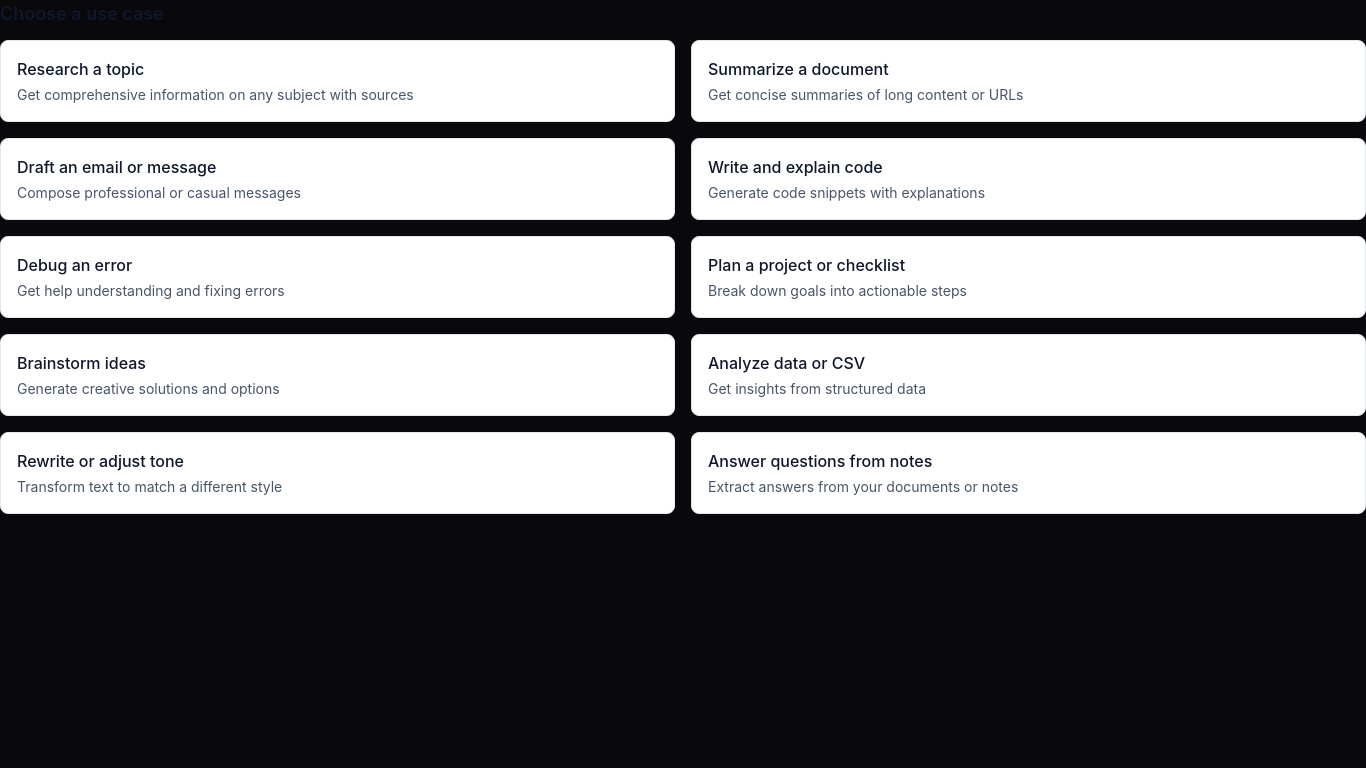
Test: UseCaseBuilder › shows Copied confirmation after copying
Click the radio button "Research a topic" at (338,81), box top-left (0, 40), bottom-right (675, 122)
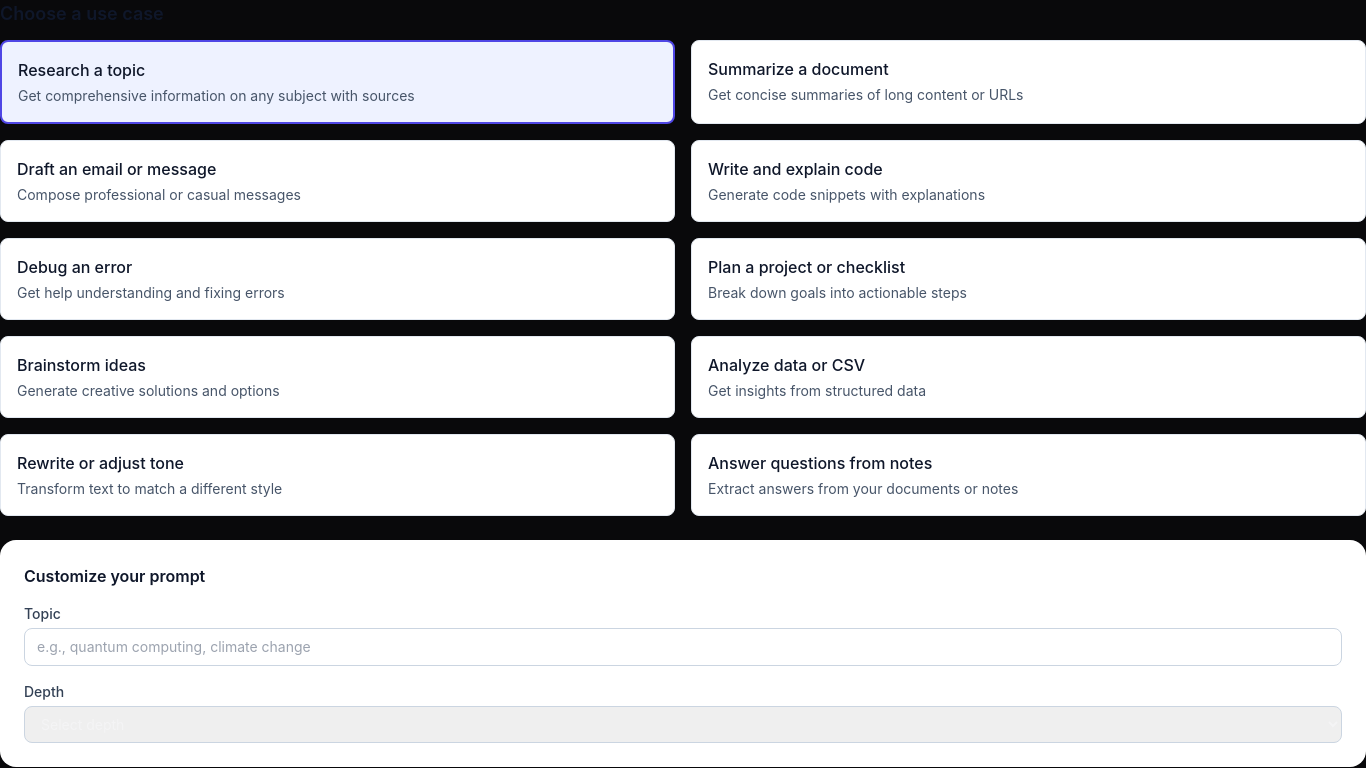
Expected: the field is shown
Fill all required fields
Type "test" into the field labelled "Topic" at (683,647), box top-left (24, 628), bottom-right (1342, 666)
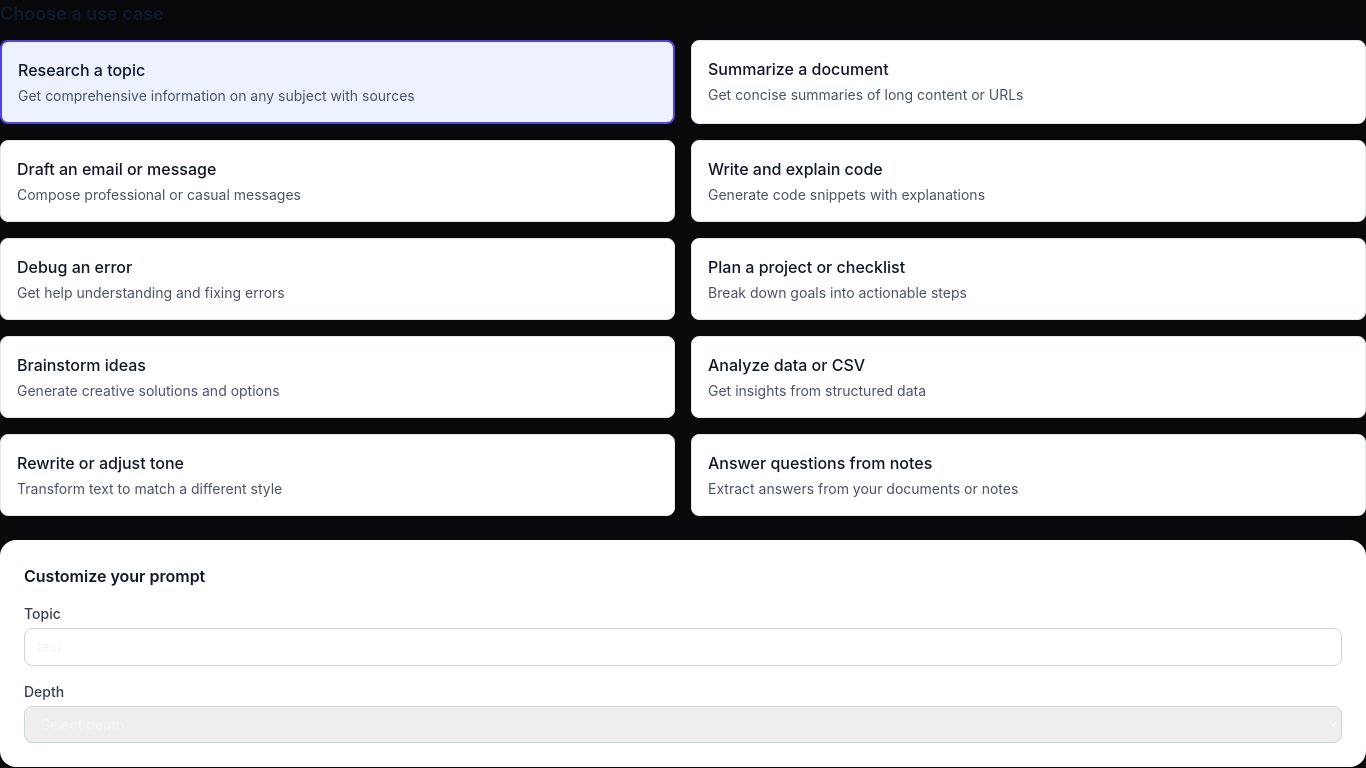
Select "detailed analysis" in the dropdown labelled "Depth" at (683,724), box top-left (24, 706), bottom-right (1342, 743)
(page scrolled)
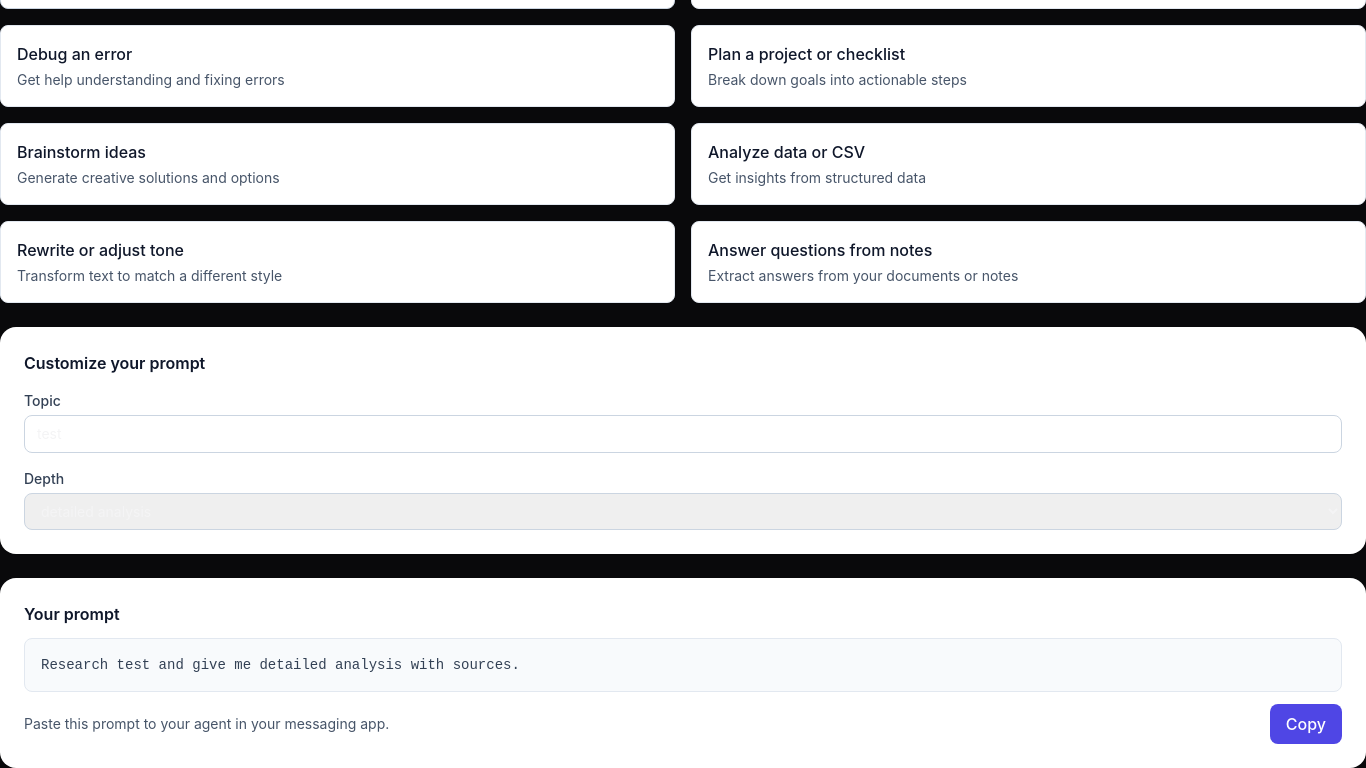
Click the button "Copy" at (1306,724), box top-left (1270, 704), bottom-right (1342, 744)
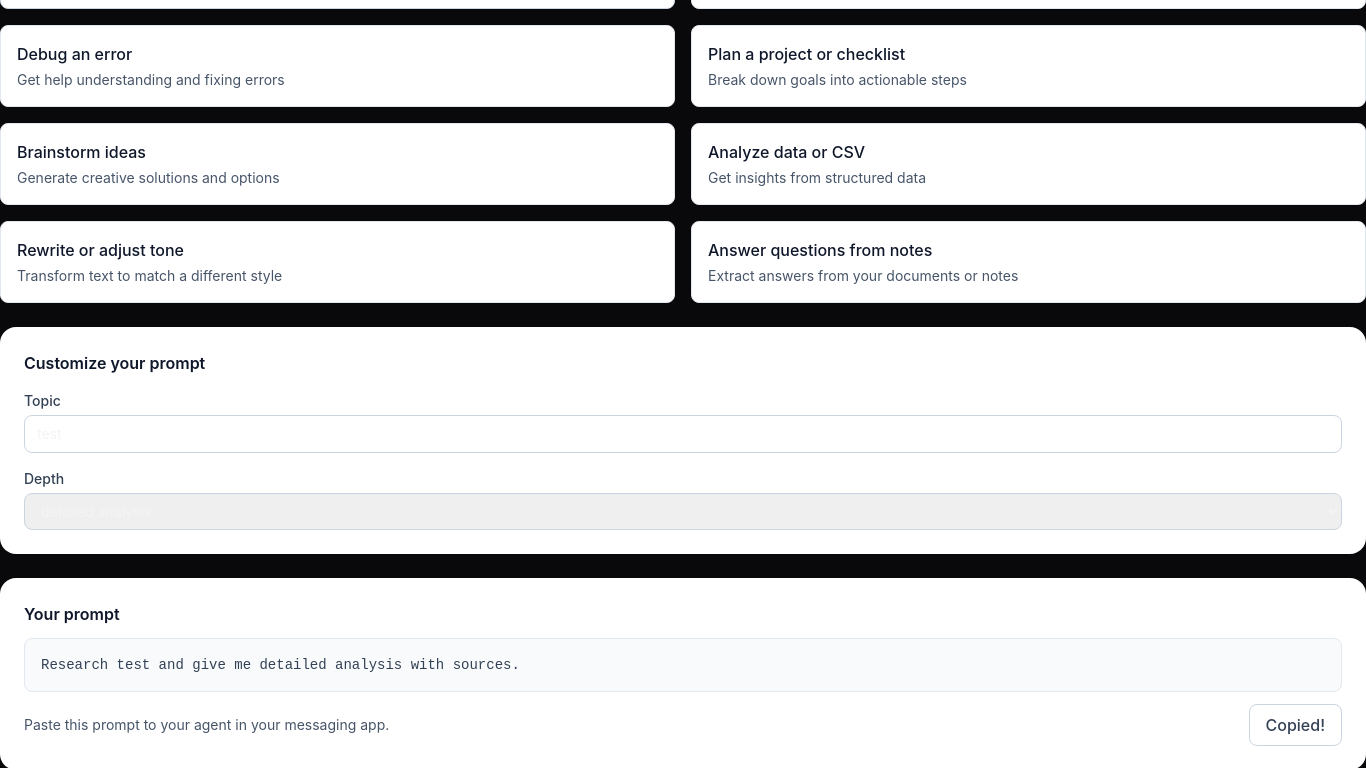
Expected: the button "Copied!" is shown, top-left (1248, 704), bottom-right (1342, 746)
